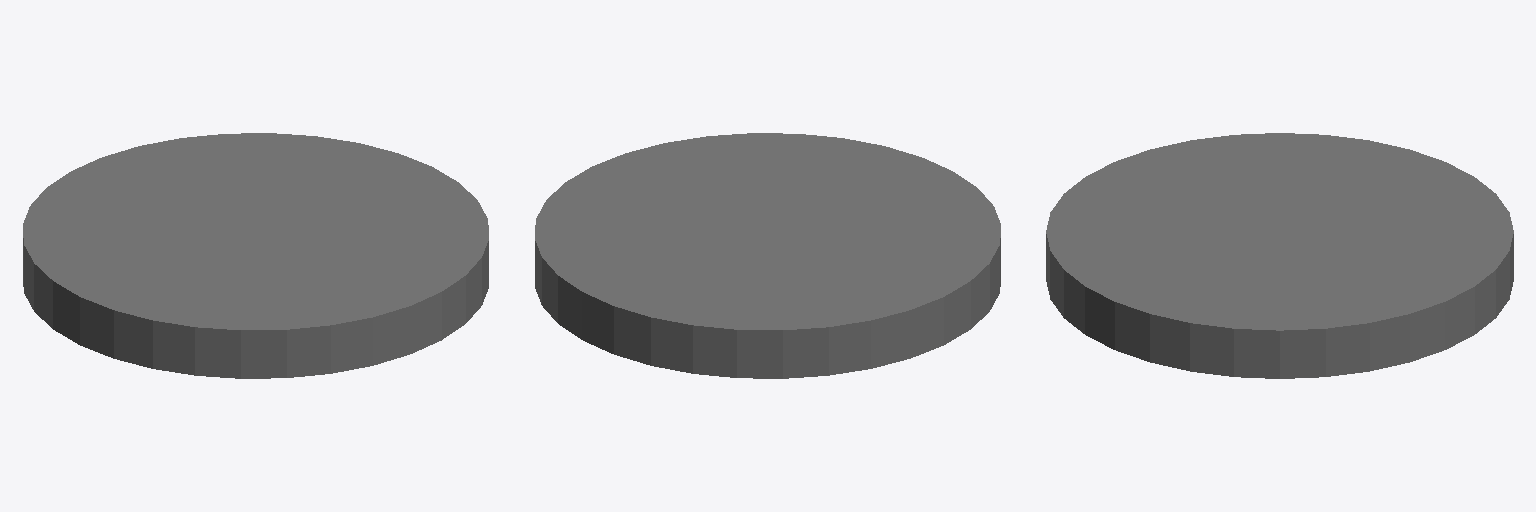
File: puck.obj
3 renders of one model, left to right at view 1: azimuth 30°, elevation 25°; view 2: azimuth 150°, elevation 25°; view 3: azimuth 270°, elevation 25°, orthographic.
Parts seen in each view (by area): view 1: Mesh_Mesh_Cylinder; view 2: Mesh_Mesh_Cylinder; view 3: Mesh_Mesh_Cylinder.
Boxes of the visible parts, x1,y1,x2,y2 form: Mesh_Mesh_Cylinder: [23, 133, 488, 378]; Mesh_Mesh_Cylinder: [535, 133, 1000, 378]; Mesh_Mesh_Cylinder: [1046, 133, 1513, 378].
Bounding box in the file's own units: 1.5 × 0.1714 × 1.5.